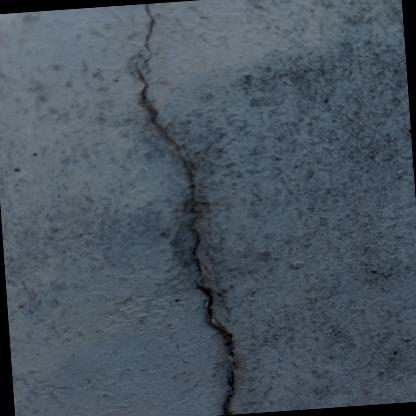crack: (135, 4, 237, 416)
